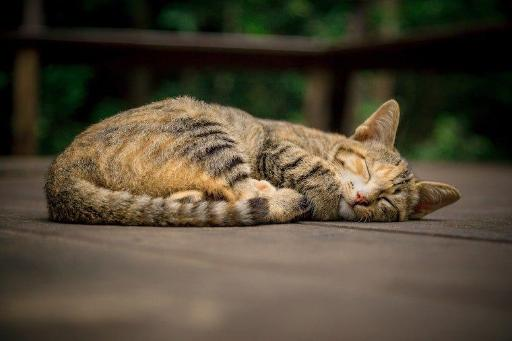cat_sleeping: (46, 96, 459, 225)
